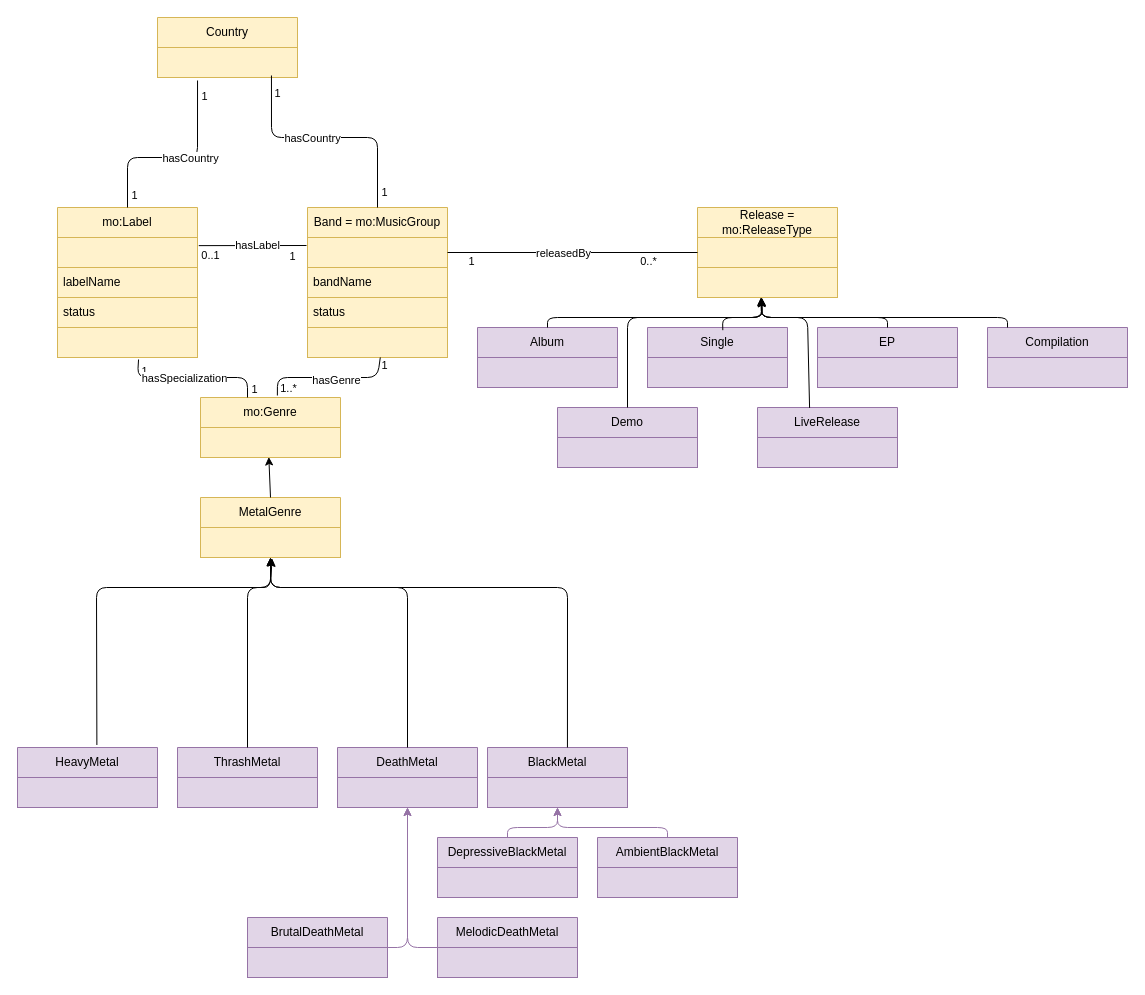
Image size: 1145x995. Some labels were removed from this diagram. Here are the shapes that lost their labels. From the top down, the centre of each, then its label:
At (227,62): "name".
At (127,252): "labelID".
At (377,252): "bandID".
At (767,252): "releaseName".
At (767,282): "releaseYear".
At (127,342): "websiteURL".
At (377,342): "matelArchiveURL".
